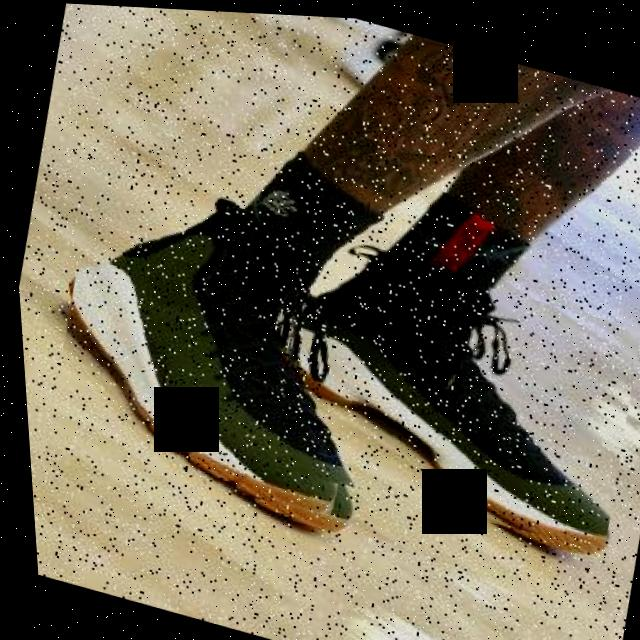shoe: (25, 173, 405, 533), (246, 230, 640, 554)
